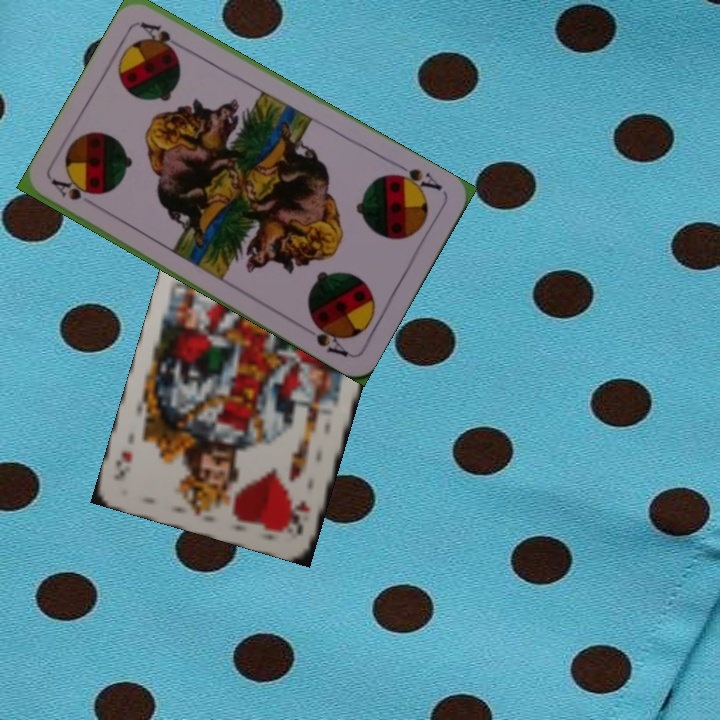HK: (284, 496, 313, 537)
SA: (387, 159, 445, 197), (48, 175, 96, 203)
